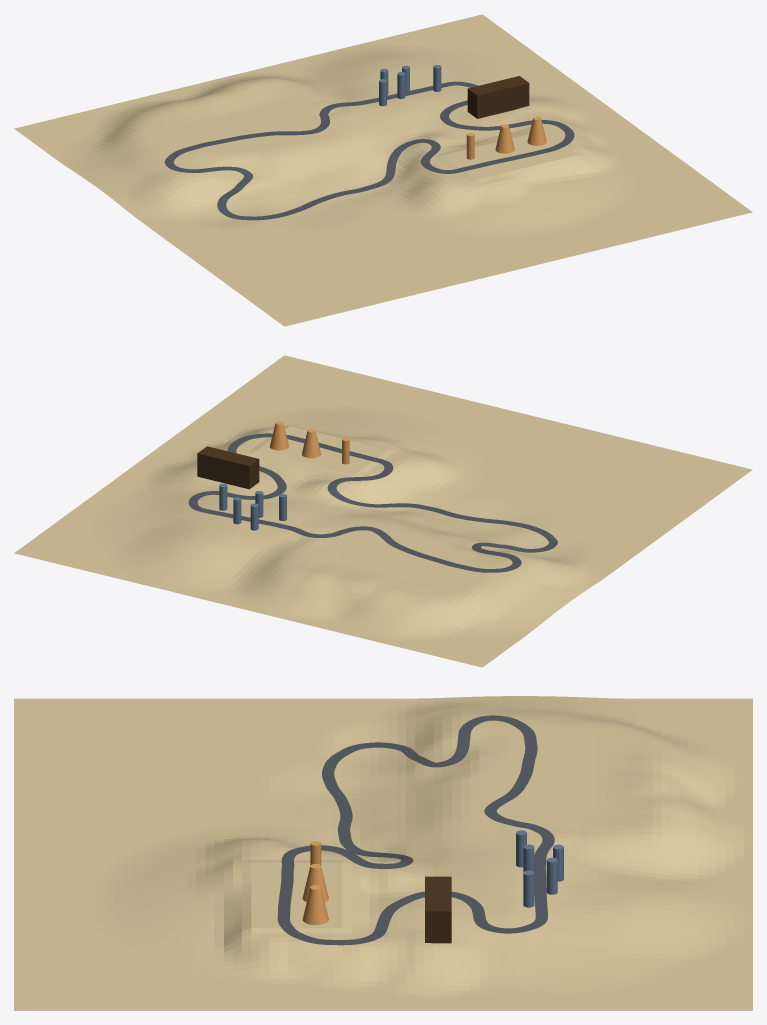
Rendered from bikini_bottom_test_track_mesh.glb.
3 views of the same model, one above another, from view 1: azimuth 30°, elevation 25°; view 2: azimuth 150°, elevation 25°; view 3: azimuth 270°, elevation 25° (orthographic). The views are drawn at different scales.
Visible parts, largest first — view 1: Seabed, BikiniBottom_test_v1, Krusty Krab; view 2: Seabed, BikiniBottom_test_v1, Krusty Krab; view 3: Seabed, BikiniBottom_test_v1, Krusty Krab, House 3.
Part boxes in pixels (x1,y1,x2,y2): Seabed: (14, 14, 752, 326); BikiniBottom_test_v1: (164, 81, 574, 220); Krusty Krab: (467, 76, 529, 118); Seabed: (14, 355, 752, 667); BikiniBottom_test_v1: (188, 433, 557, 572); Krusty Krab: (197, 446, 259, 489); Seabed: (14, 696, 752, 1010); BikiniBottom_test_v1: (277, 715, 554, 945); Krusty Krab: (425, 876, 451, 943); House 3: (302, 885, 328, 924).
Bounding box in the file's own units: 600 × 53.27 × 600.
